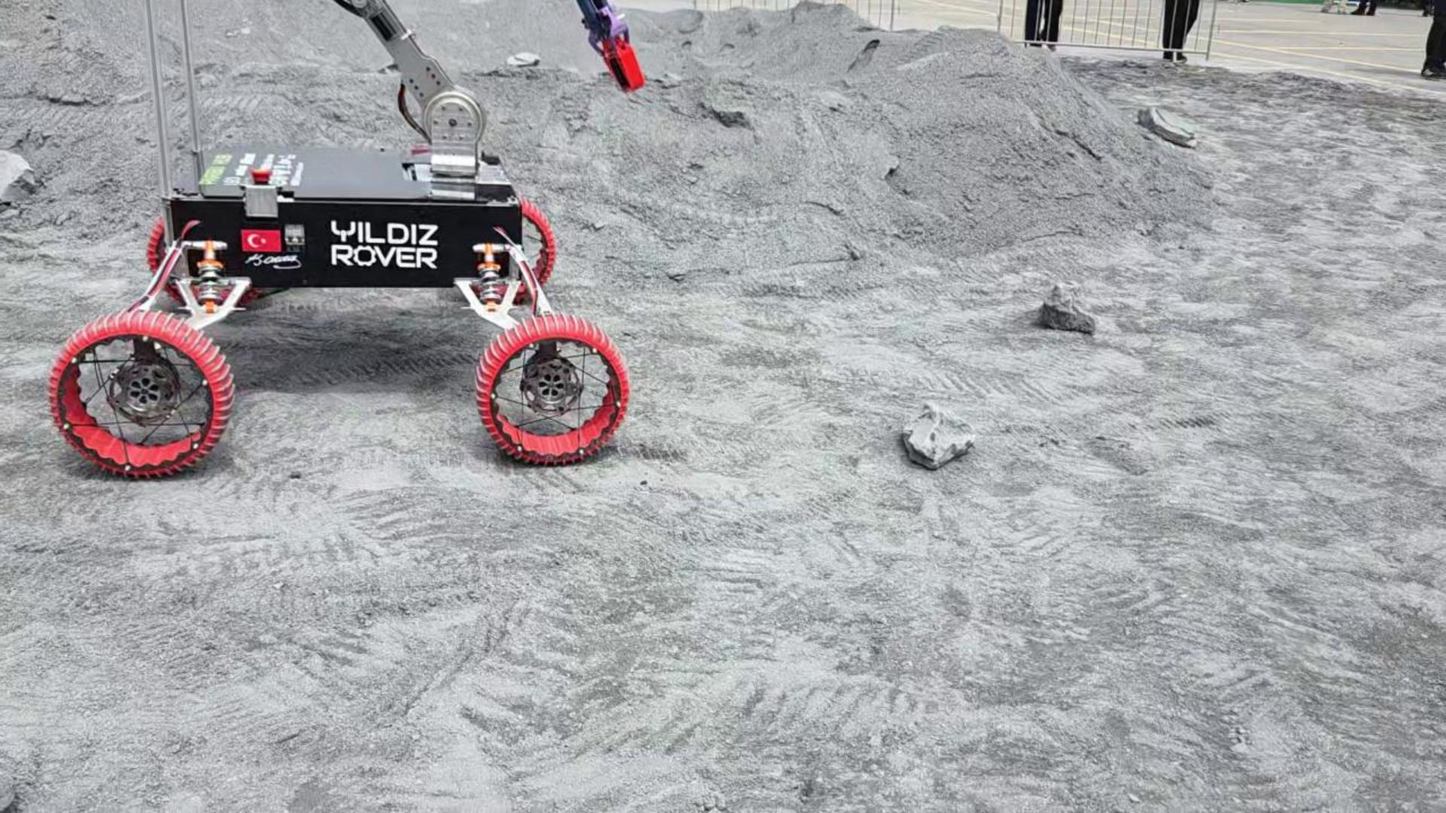rock: (901, 401, 975, 469), (1039, 282, 1096, 333), (1136, 107, 1195, 148), (0, 150, 37, 203), (506, 52, 540, 67)
